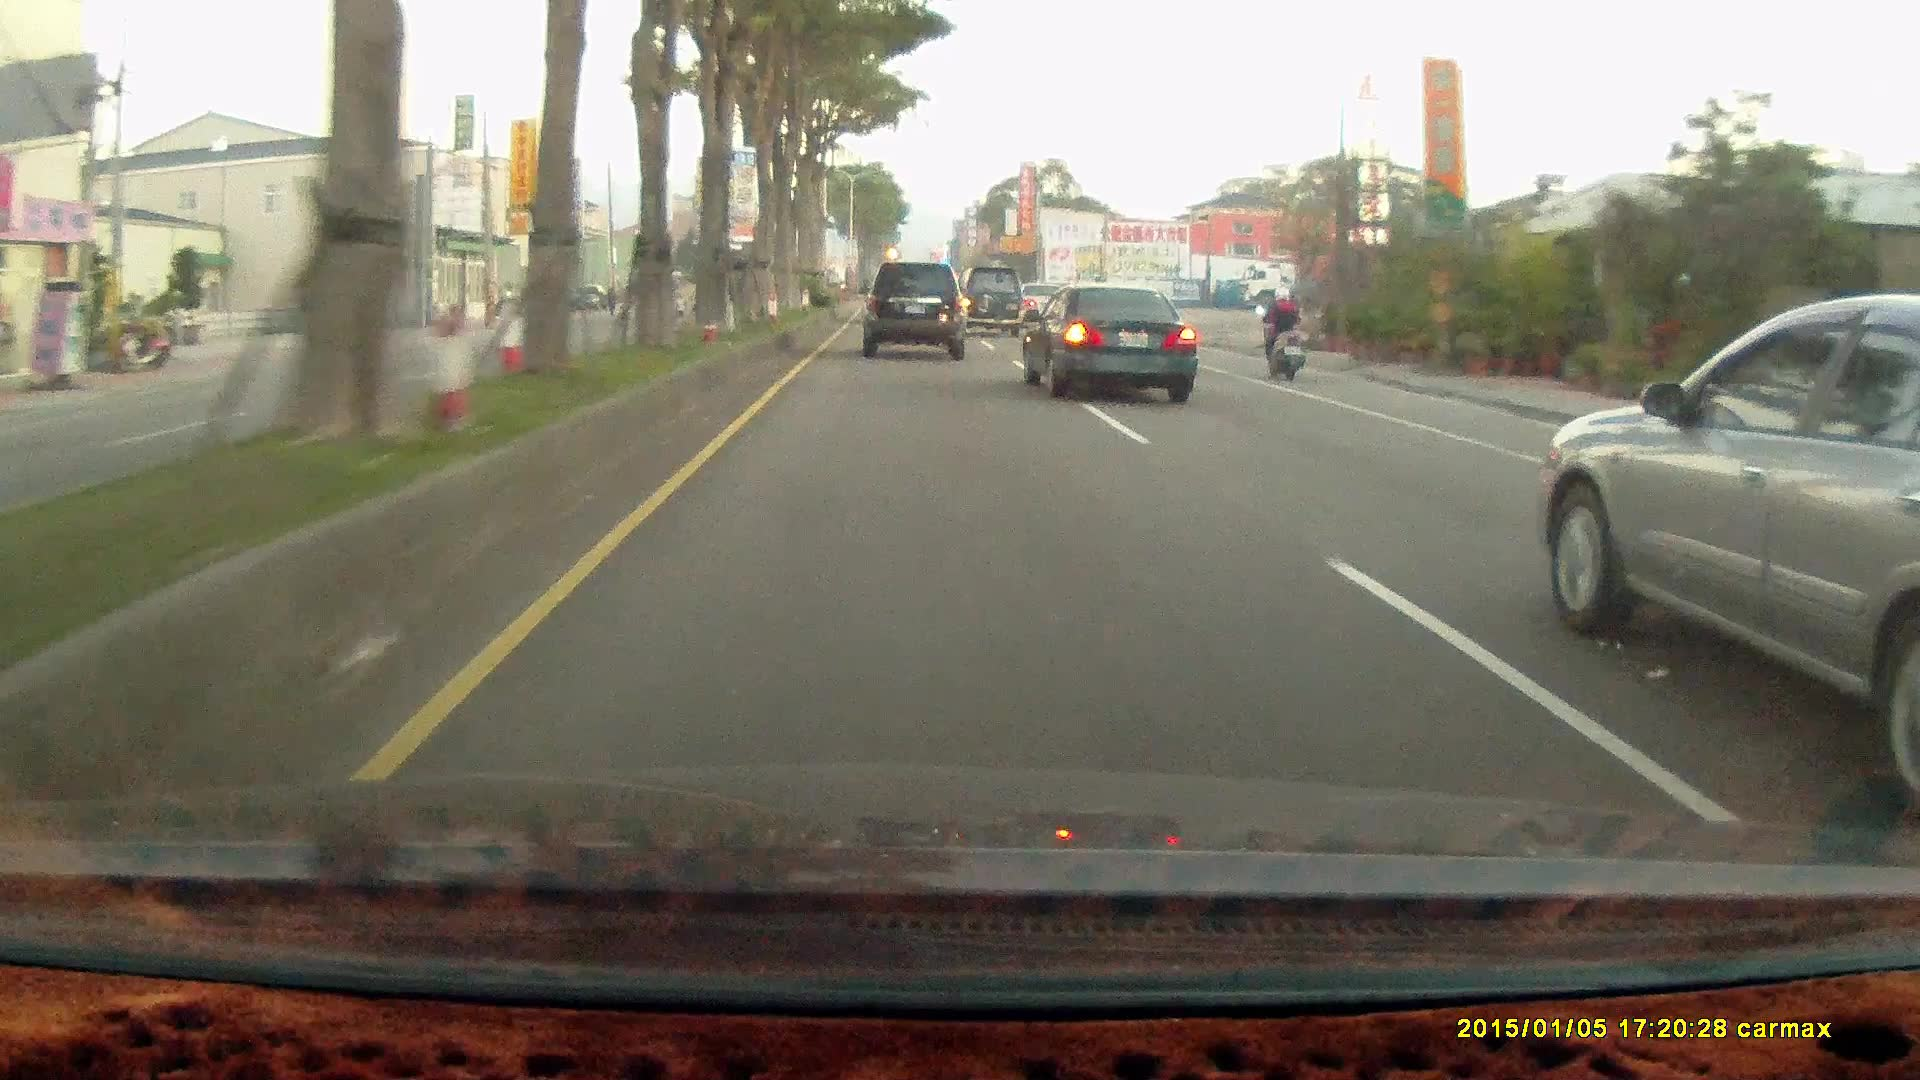rider: (1252, 278, 1316, 391), (1255, 286, 1306, 383)
vehicle: (1533, 296, 1918, 823), (1021, 280, 1197, 403), (1021, 284, 1201, 403), (1247, 259, 1469, 313), (859, 263, 970, 363), (861, 260, 966, 358), (296, 282, 399, 338), (951, 264, 1026, 339)
